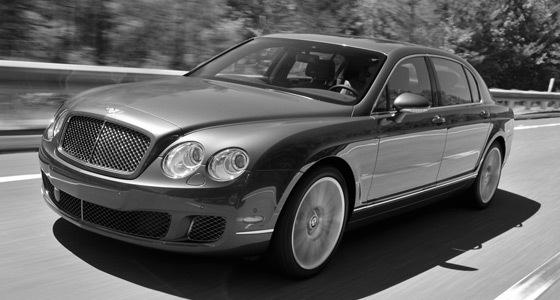car: (30, 34, 513, 274)
